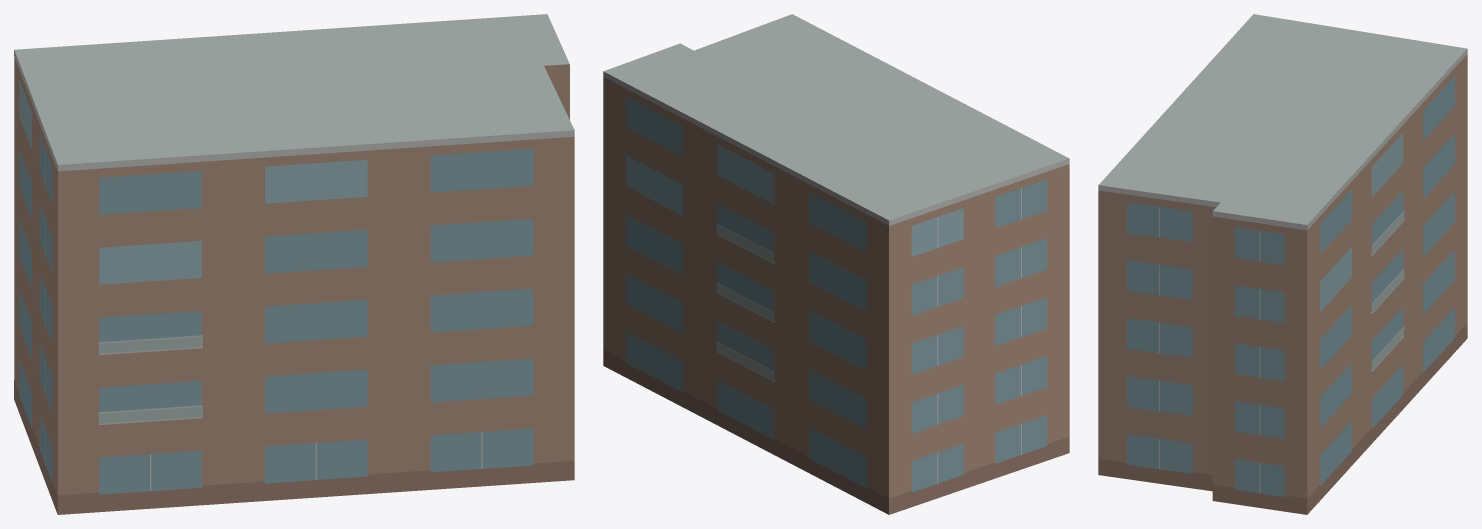
Rendered from survey-upis-32958486.glb.
3 renders of one model, left to right at view 1: azimuth 30°, elevation 25°; view 2: azimuth 150°, elevation 25°; view 3: azimuth 270°, elevation 25°, orthographic. The views are drawn at different scales.
Visible parts, largest first — view 1: survey-upis-32958486.tmp; view 2: survey-upis-32958486.tmp; view 3: survey-upis-32958486.tmp.
Boxes of the visible parts, left/top/right/bottom form: survey-upis-32958486.tmp: left=14, top=14, right=574, bottom=514; survey-upis-32958486.tmp: left=603, top=14, right=1069, bottom=514; survey-upis-32958486.tmp: left=1098, top=14, right=1467, bottom=514.
Size of the model in its own units: 20.78 by 13.3 by 15.36.
